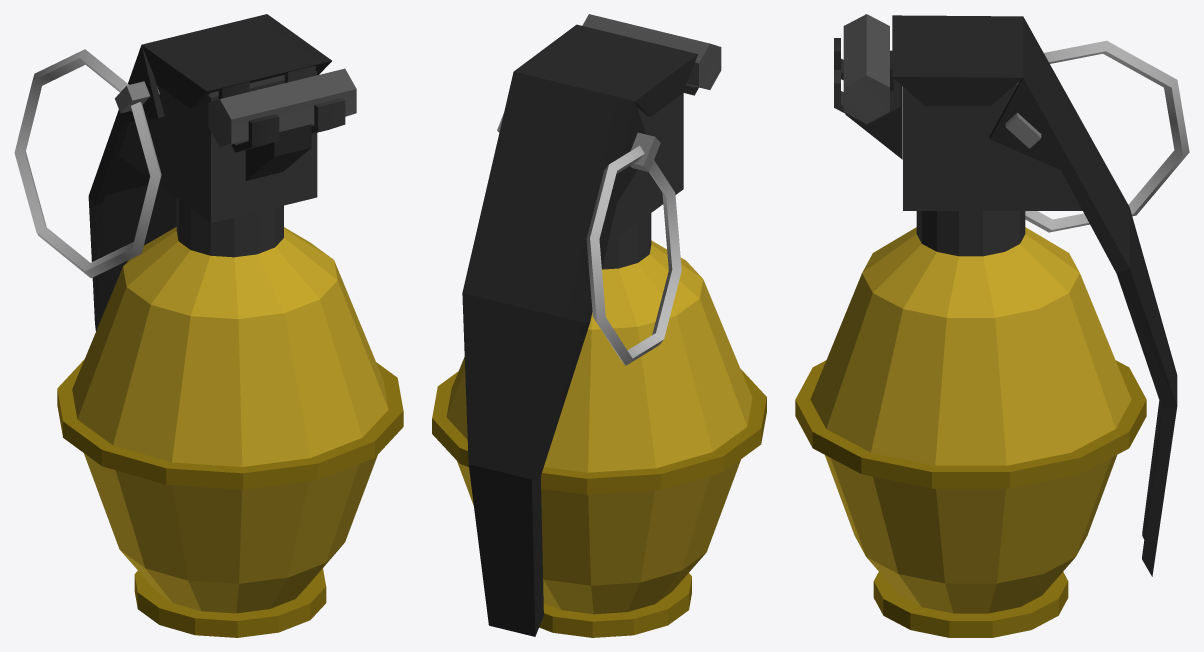
The model's file is Frag1.FBX.
3 renders of one model, left to right at view 1: azimuth 30°, elevation 25°; view 2: azimuth 150°, elevation 25°; view 3: azimuth 270°, elevation 25°, orthographic. The views are drawn at different scales.
Parts seen in each view (by area): view 1: Sphere009, Sphere010, Object012, Object015; view 2: Sphere010, Sphere009, Object012, Object015; view 3: Sphere009, Sphere010, Object012, Object015.
Part boxes in pixels (x1=…): Sphere009: x1=57, y1=198, x2=403, y2=637; Sphere010: x1=88, y1=14, x2=356, y2=330; Object012: x1=14, y1=49, x2=161, y2=278; Object015: x1=114, y1=81, x2=159, y2=113; Sphere010: x1=462, y1=14, x2=721, y2=636; Sphere009: x1=432, y1=213, x2=766, y2=637; Object012: x1=586, y1=145, x2=681, y2=365; Object015: x1=497, y1=113, x2=660, y2=171; Sphere009: x1=795, y1=211, x2=1146, y2=637; Sphere010: x1=834, y1=14, x2=1177, y2=576; Object012: x1=1025, y1=40, x2=1189, y2=232; Object015: x1=1005, y1=112, x2=1041, y2=148.
Bounding box in the file's own units: 0.1308 × 0.2332 × 0.1506.
